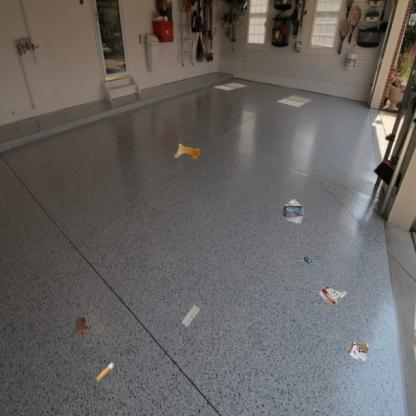dirty: (317, 284, 348, 308), (281, 198, 305, 224), (346, 339, 372, 362), (180, 303, 202, 327), (95, 361, 117, 382), (298, 254, 314, 264)
liquid: (173, 142, 201, 160), (74, 316, 92, 338)
